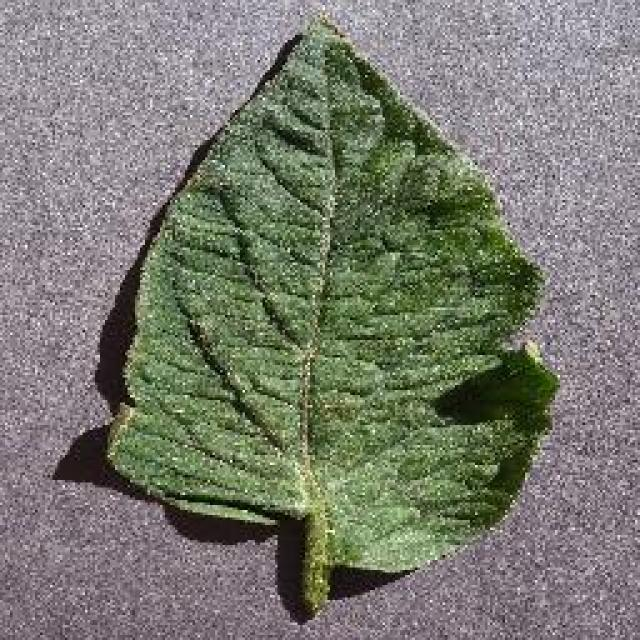healthy: (105, 19, 568, 608)
